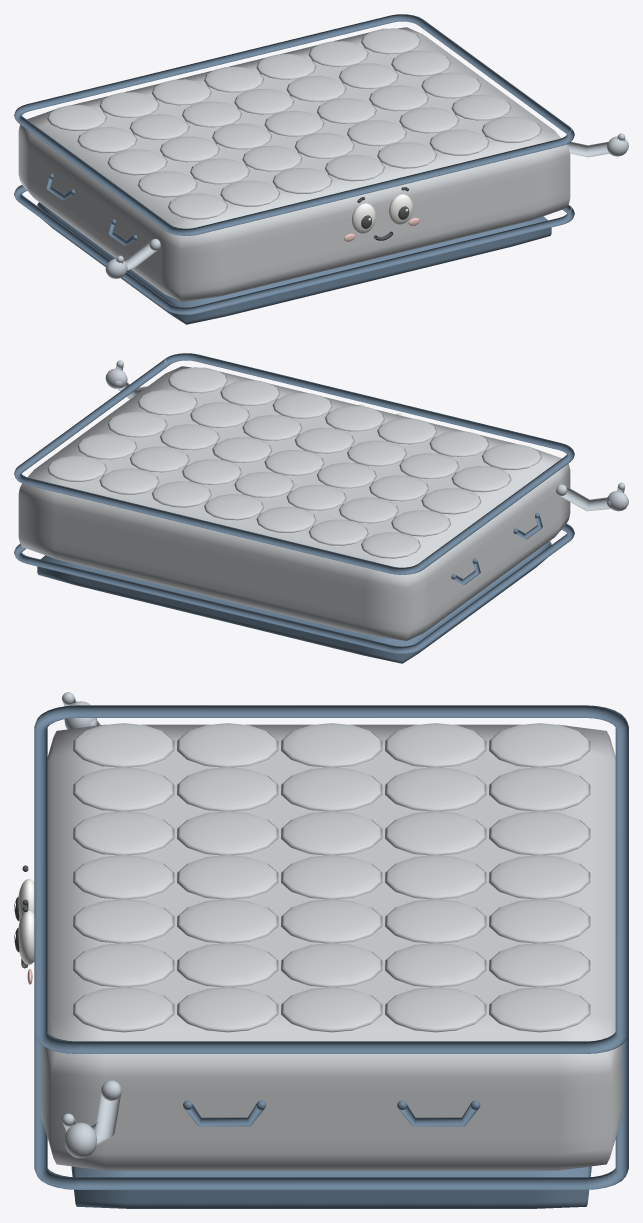
The model's file is mattress.glb.
3 views of the same model, one above another, from view 1: azimuth 30°, elevation 25°; view 2: azimuth 150°, elevation 25°; view 3: azimuth 270°, elevation 25° (orthographic). The views are drawn at different scales.
Parts seen in each view (by area): view 1: fabric, frame, armR, armL, eyeballL, eyeballR; view 2: fabric, frame, armL, armR; view 3: fabric, frame, armR, eyeballR.
Boxes of the visible parts, bbox=[...] form: fabric: bbox=[18, 27, 570, 301]; frame: bbox=[14, 14, 574, 324]; armR: bbox=[567, 133, 628, 157]; armL: bbox=[105, 238, 160, 278]; eyeballL: bbox=[351, 203, 375, 233]; eyeballR: bbox=[389, 194, 412, 224]; fabric: bbox=[18, 366, 570, 640]; frame: bbox=[14, 353, 574, 663]; armL: bbox=[556, 482, 628, 511]; armR: bbox=[105, 360, 147, 398]; fabric: bbox=[41, 723, 622, 1170]; frame: bbox=[34, 705, 628, 1208]; armR: bbox=[62, 1080, 121, 1158]; eyeballR: bbox=[18, 910, 34, 964].
Bounding box in the file's own units: 3.22 × 0.6422 × 1.91.
